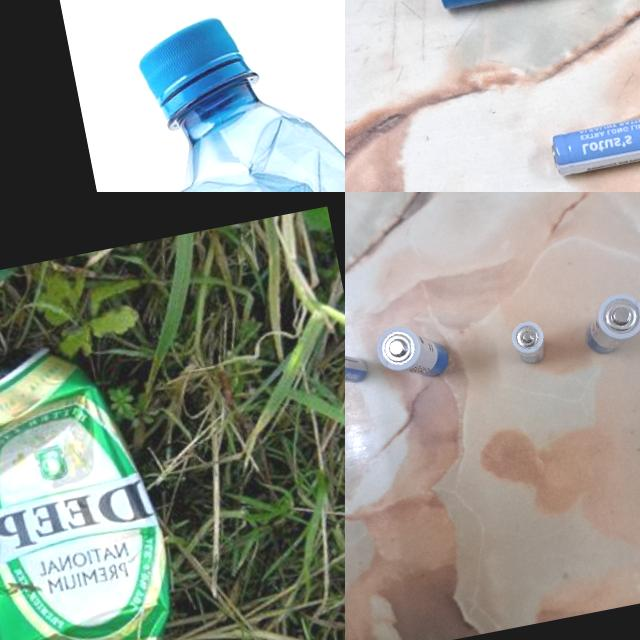bateria: (549, 100, 640, 177), (372, 318, 453, 388), (577, 290, 640, 358), (508, 318, 549, 367), (345, 336, 368, 394)
garrafa plástica: (143, 54, 345, 192)
lata: (0, 327, 192, 640)
tampa plástica: (130, 11, 260, 126)
